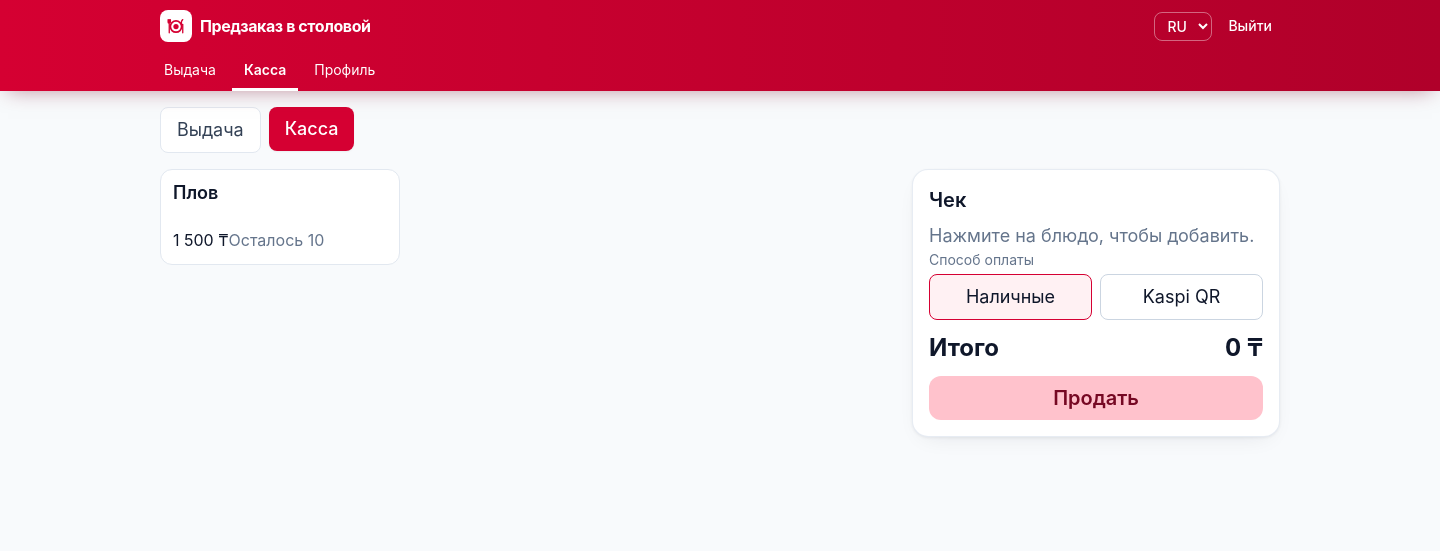
Scenario: pos › sells from menu tiles
Click the button "Плов 1 500 ₸ Осталось 10" at (280, 217), box top-left (160, 169), bottom-right (400, 265)
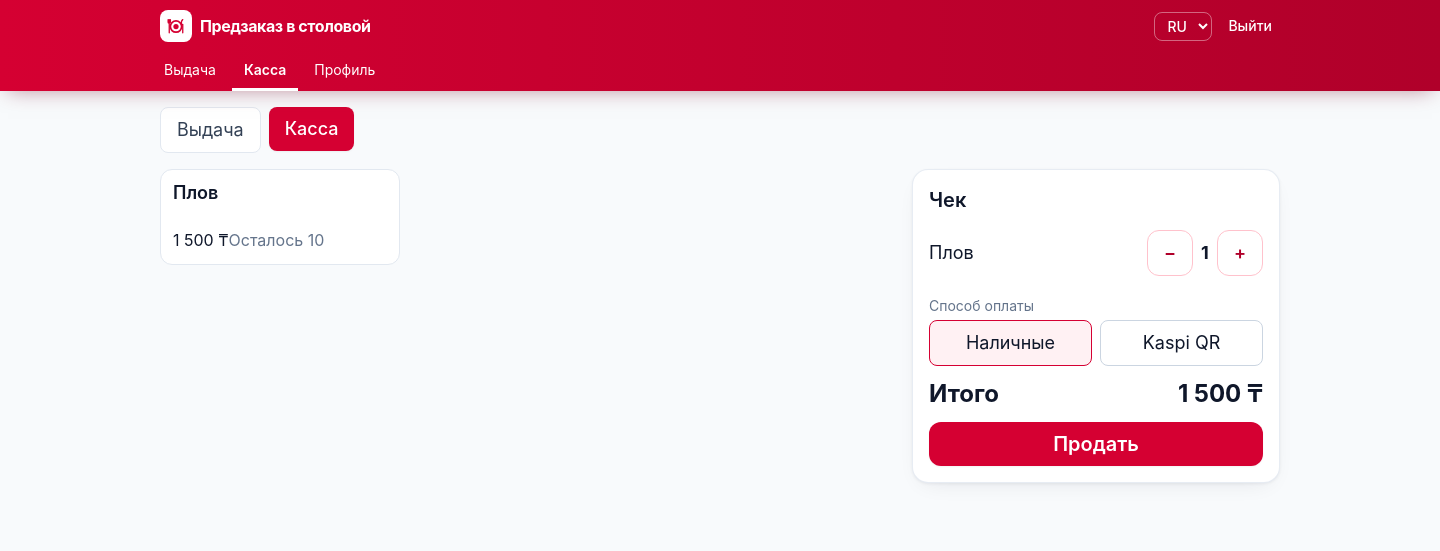
Click the button "Плов 1 500 ₸ Осталось 10" at (280, 217), box top-left (160, 169), bottom-right (400, 265)
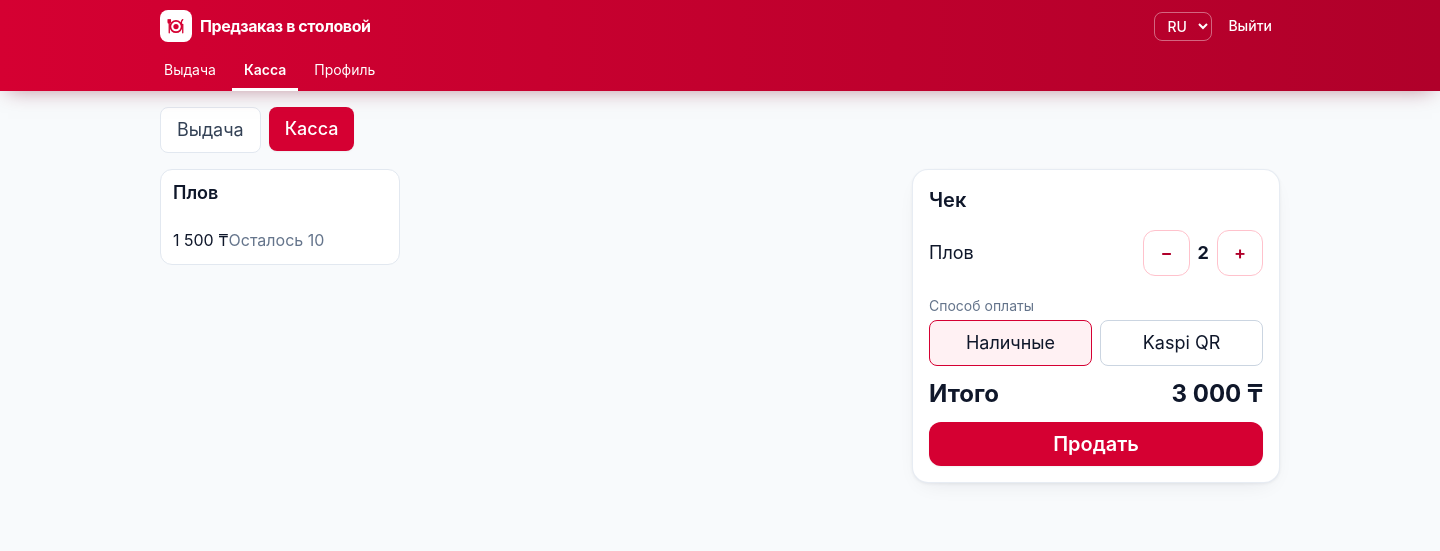
Check: the text with test id "pos-total" shows "3 000", box top-left (1172, 379), bottom-right (1263, 408)
Click the button "Продать" at (1096, 444), box top-left (929, 422), bottom-right (1263, 466)
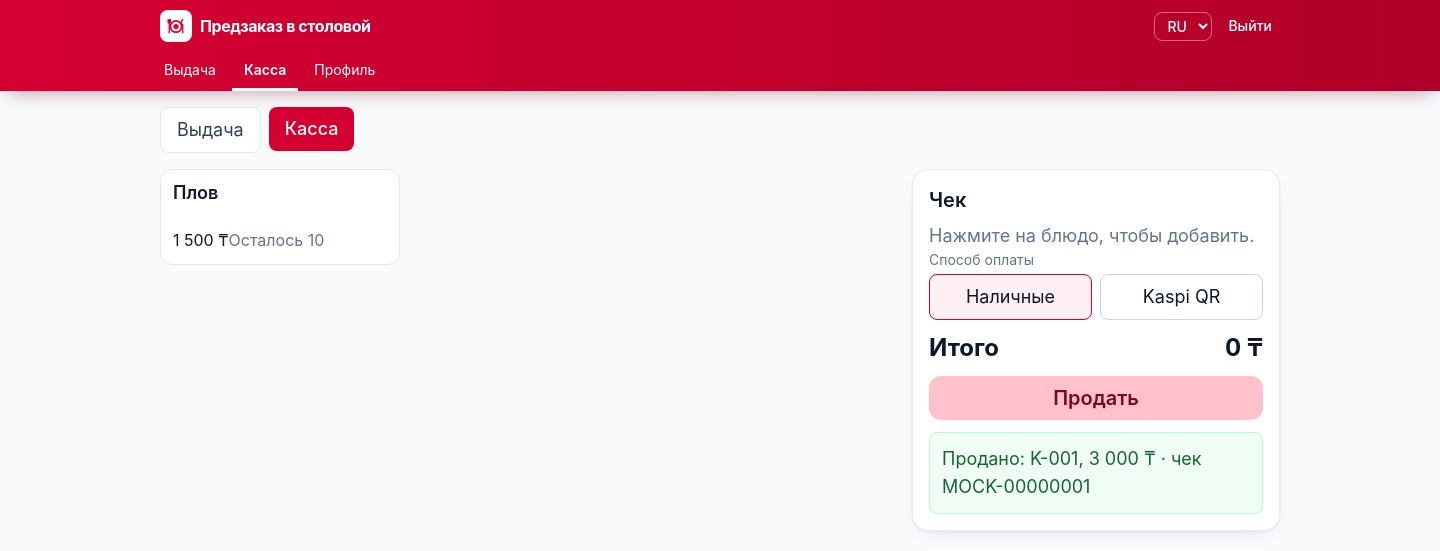
Check: the text "Продано: K-001, 3 000 ₸ · чек MOCK-00000001" is shown, box top-left (929, 432), bottom-right (1263, 514)
